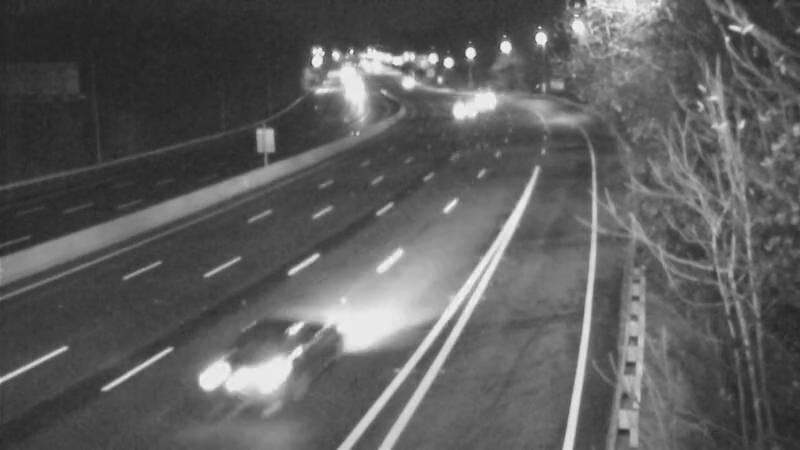vehicle: (190, 315, 300, 425), (378, 57, 428, 107), (456, 75, 506, 125), (436, 83, 486, 133)
